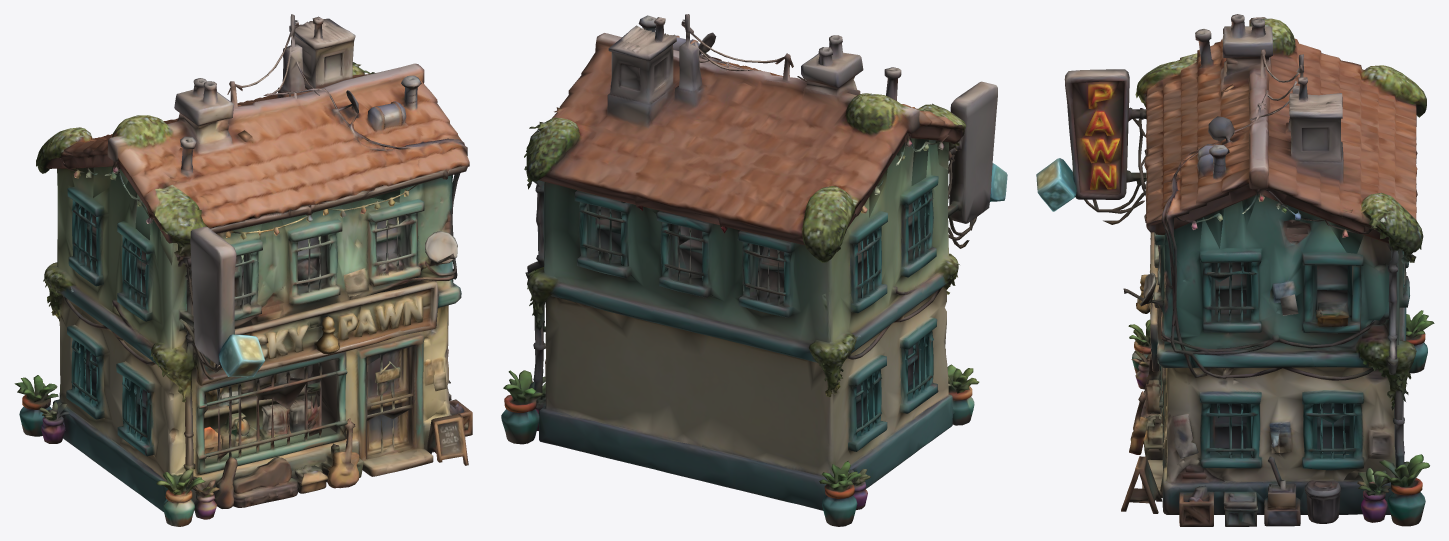
File: store_pawn.glb
3 renders of one model, left to right at view 1: azimuth 30°, elevation 25°; view 2: azimuth 150°, elevation 25°; view 3: azimuth 270°, elevation 25°, orthographic. The views are drawn at different scales.
Visible parts, largest first — view 1: tripo_part_0, tripo_part_1, tripo_part_2, tripo_part_17, tripo_part_9, tripo_part_7, tripo_part_13, tripo_part_10, tripo_part_15, tripo_part_4, tripo_part_11, tripo_part_12 (+1 smaller); view 2: tripo_part_0, tripo_part_1, tripo_part_3, tripo_part_10, tripo_part_9, tripo_part_16; view 3: tripo_part_0, tripo_part_1, tripo_part_8, tripo_part_3, tripo_part_2, tripo_part_7, tripo_part_5, tripo_part_13, tripo_part_10, tripo_part_17, tripo_part_16, tripo_part_9 (+2 smaller).
Part boxes in pixels (box(x1,y1,x2,y2)): tripo_part_0: box(43, 167, 461, 511); tripo_part_1: box(36, 14, 469, 266); tripo_part_2: box(213, 418, 363, 508); tripo_part_17: box(155, 184, 207, 244); tripo_part_9: box(156, 465, 205, 526); tripo_part_7: box(218, 334, 265, 377); tripo_part_13: box(426, 414, 468, 465); tripo_part_10: box(14, 375, 58, 436); tripo_part_15: box(361, 448, 433, 476); tripo_part_4: box(205, 365, 312, 408); tripo_part_11: box(39, 401, 68, 443); tripo_part_12: box(192, 476, 219, 519); tripo_part_0: box(525, 81, 997, 510); tripo_part_1: box(524, 14, 964, 262); tripo_part_3: box(501, 370, 545, 444); tripo_part_10: box(819, 461, 861, 526); tripo_part_9: box(947, 364, 979, 425); tripo_part_16: box(527, 180, 543, 273); tripo_part_0: box(1064, 69, 1416, 514); tripo_part_1: box(1143, 14, 1426, 267); tripo_part_8: box(1179, 480, 1300, 526); tripo_part_3: box(1357, 454, 1429, 526); tripo_part_2: box(1129, 354, 1162, 459); tripo_part_7: box(1036, 158, 1076, 211); tripo_part_5: box(1304, 479, 1341, 523); tripo_part_13: box(1121, 456, 1162, 513); tripo_part_10: box(1405, 310, 1434, 373); tripo_part_17: box(1135, 53, 1197, 103); tripo_part_16: box(1387, 246, 1398, 359); tripo_part_9: box(1128, 319, 1160, 373).
Size of the model in its own units: 0.8773 by 0.9798 by 0.8535.
Materials: 1 (1 with a texture image).
